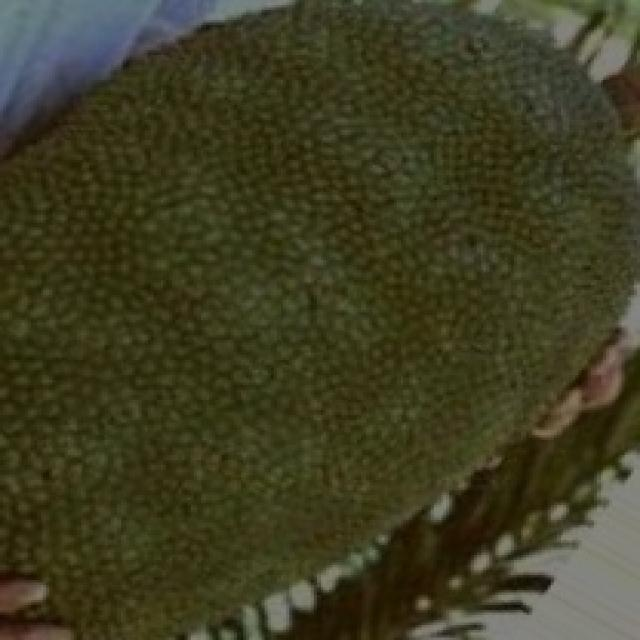Fruit: (267, 0, 640, 405), (0, 0, 397, 345)
